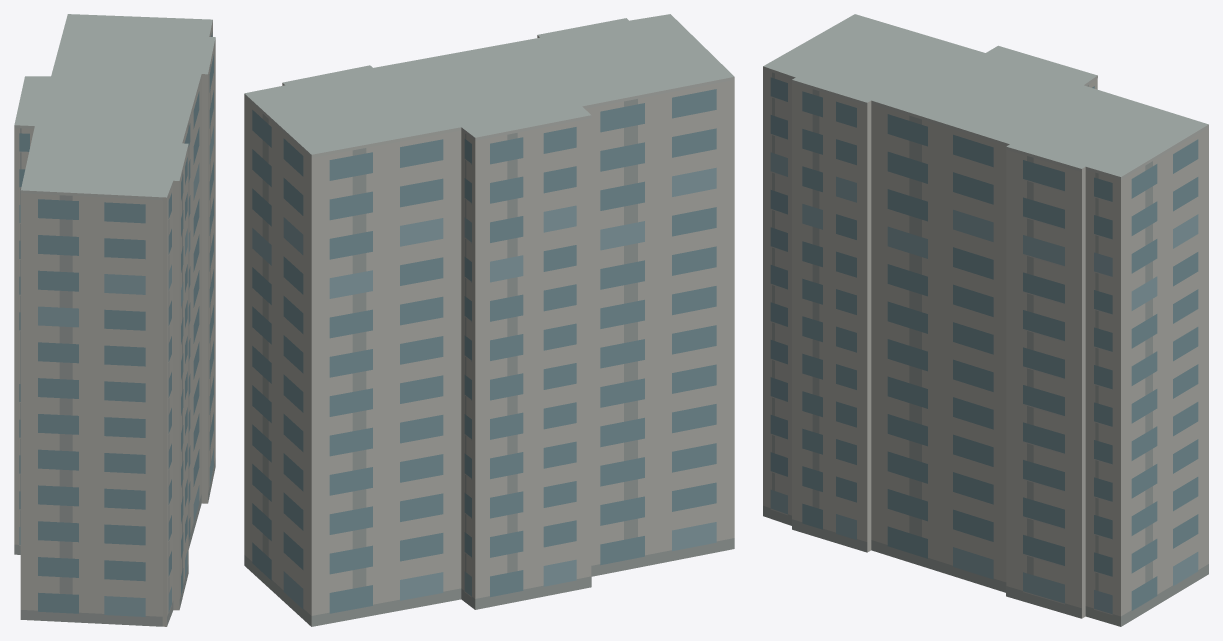
File: residential-f54c2145-f335-4ff3-80db-4c1b5d8b8326.glb
The picture shows the model from 3 angles, left to right: view 1: azimuth 30°, elevation 25°; view 2: azimuth 150°, elevation 25°; view 3: azimuth 270°, elevation 25°; orthographic projection. The views are drawn at different scales.
Visible parts, largest first — view 1: residential-f54c2145-f335-4ff3-80db-4c1b5d8b8326.tmp; view 2: residential-f54c2145-f335-4ff3-80db-4c1b5d8b8326.tmp; view 3: residential-f54c2145-f335-4ff3-80db-4c1b5d8b8326.tmp.
Part boxes in pixels (box(x1,y1,x2,y2)): residential-f54c2145-f335-4ff3-80db-4c1b5d8b8326.tmp: box(14, 14, 215, 626); residential-f54c2145-f335-4ff3-80db-4c1b5d8b8326.tmp: box(244, 14, 734, 626); residential-f54c2145-f335-4ff3-80db-4c1b5d8b8326.tmp: box(763, 14, 1208, 626).
Size of the model in its own units: 28.01 by 36 by 32.35.
